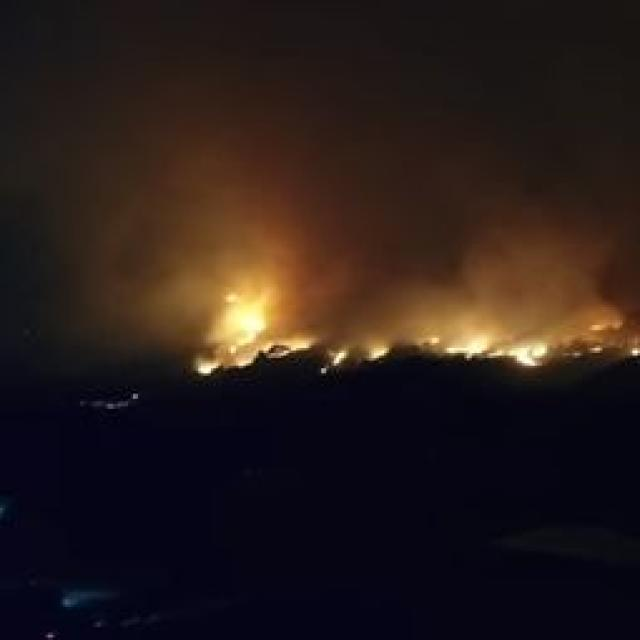Smoke: (115, 122, 602, 348)
